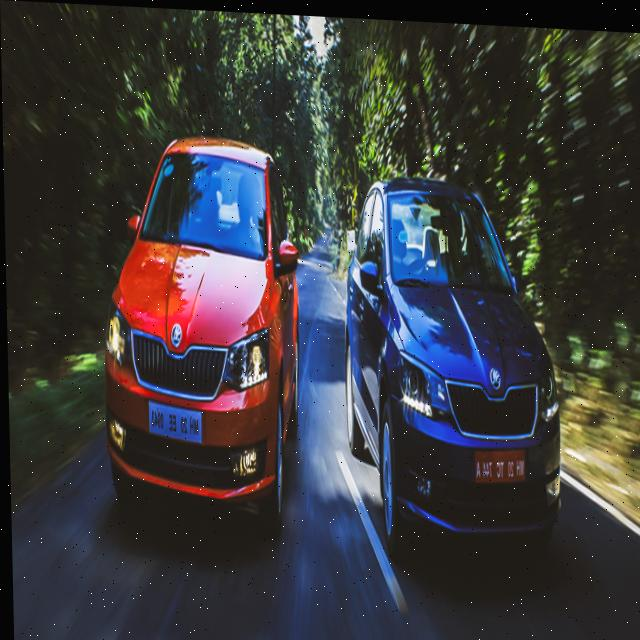plate: (145, 395, 201, 448), (470, 444, 527, 483)
